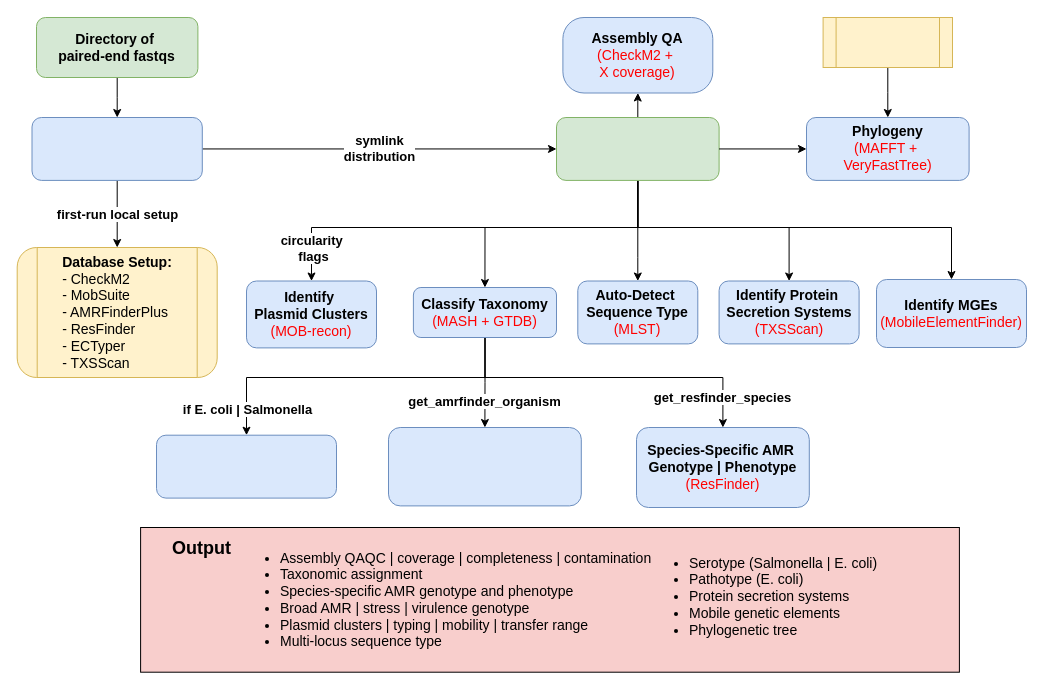
Some shapes in this 1045 by 690 pixel diagram are drawn without their labels. Here are the shapes that lost their labels. From the top down, the centre of each, then its label:
At point (887, 42): "GTDB bac120".
At point (116, 148): "Clean + Assemble (fastp, Unicycler)".
At point (637, 148): "assembly.fasta".
At point (246, 466): "Serotype | Pathotype (SeqSero2, ECTyper)".
At point (484, 466): "Species-Specific AMR | Virulence | Stress Genotype (AMRFinderPlus)".
